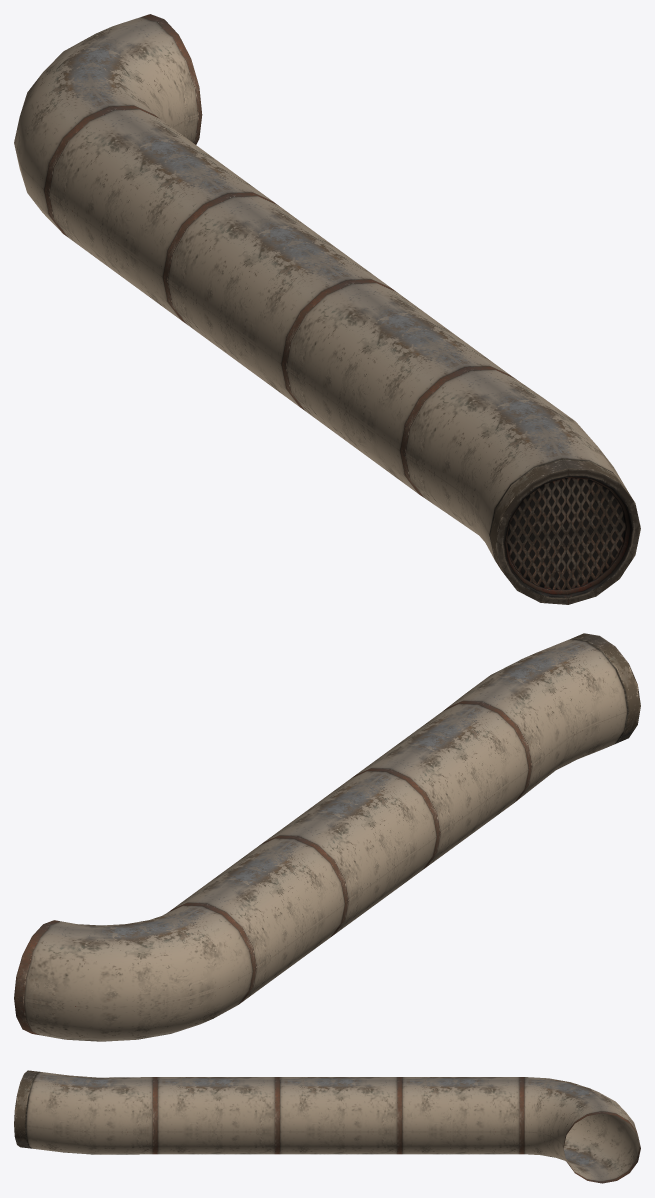
Rendered from Duct.dae.
3 renders of one model, top to bottom at view 1: azimuth 30°, elevation 25°; view 2: azimuth 150°, elevation 25°; view 3: azimuth 270°, elevation 25°, orthographic. The views are drawn at different scales.
Parts seen in each view (by area): view 1: Duct; view 2: Duct; view 3: Duct.
Part boxes in pixels (bbox=[...]): Duct: bbox=[14, 14, 640, 604]; Duct: bbox=[14, 633, 640, 1041]; Duct: bbox=[14, 1070, 640, 1183].
Bounding box in the file's own units: 146 × 697 × 86.12.
